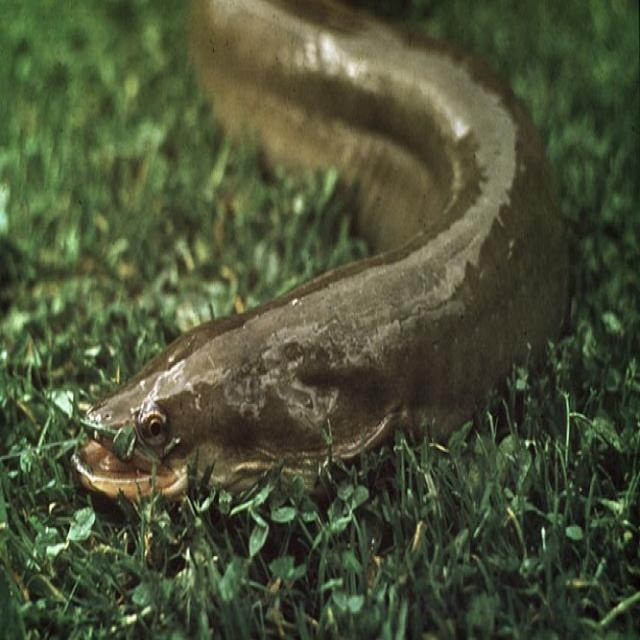Freshwater-Eel: (70, 0, 609, 536)
